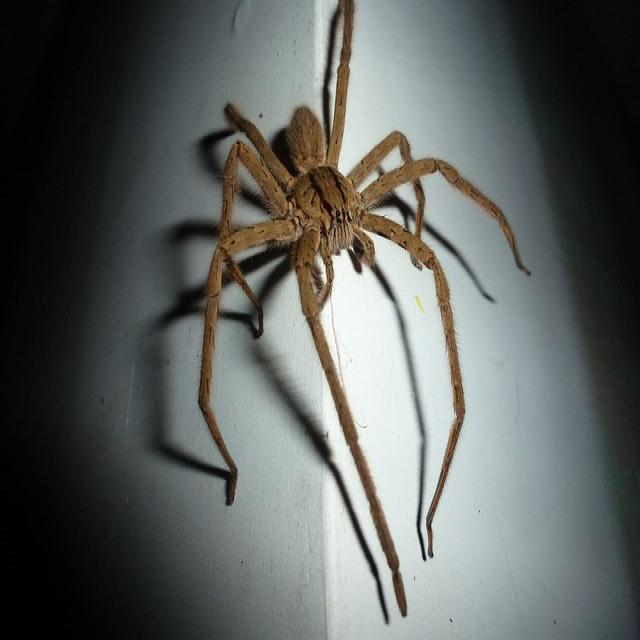spyder: (199, 0, 529, 616)
